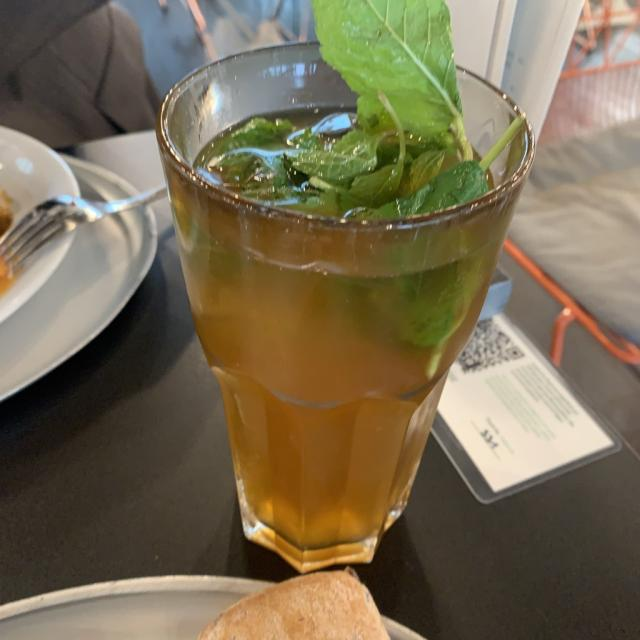ice-tea: (181, 114, 500, 549)
